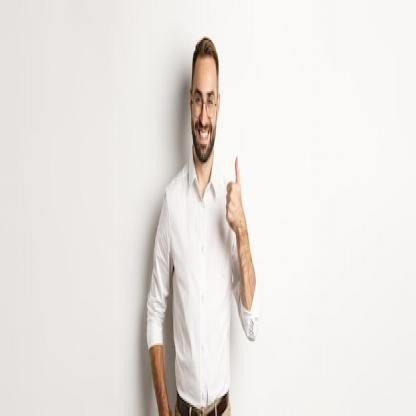thumb_up: (224, 150, 244, 231)
